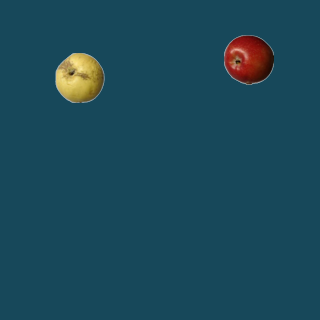Apple Braeburn: (223, 34, 273, 84)
Apple Golden 1: (54, 52, 104, 102)
